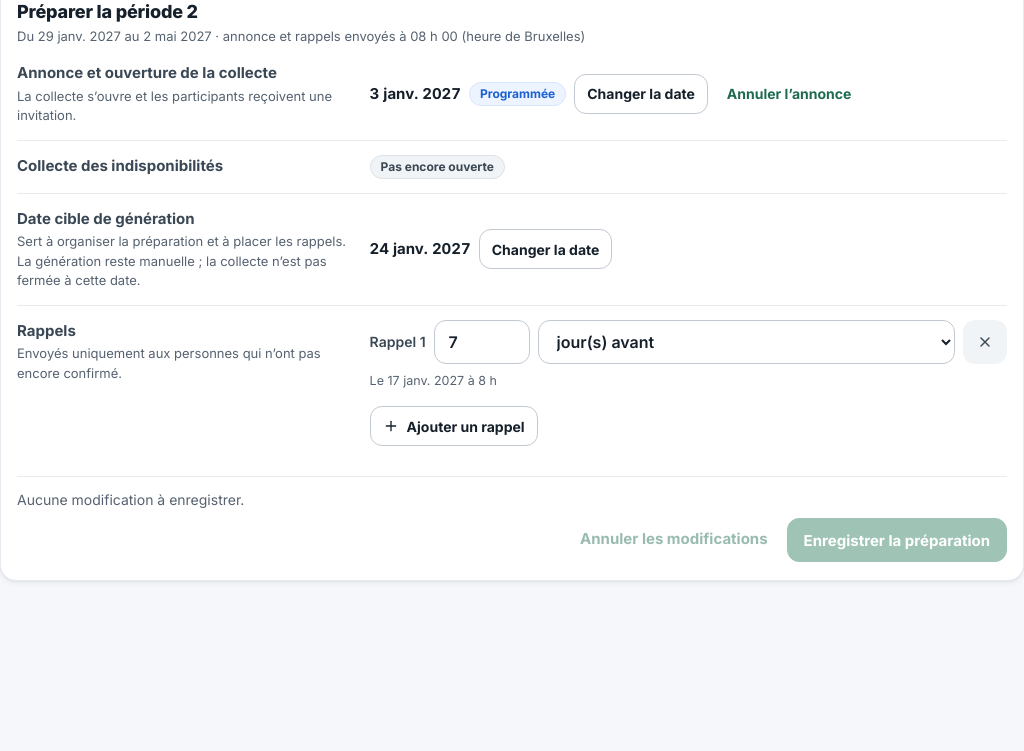
PeriodPreparationPanel — adding a reminder (Trauma Delta, 17 → 24 January 2027) › flags two reminders on the same day, in days or in weeks
Click the button "Ajouter un rappel".
click(454, 426)  # box [370,406,538,446]
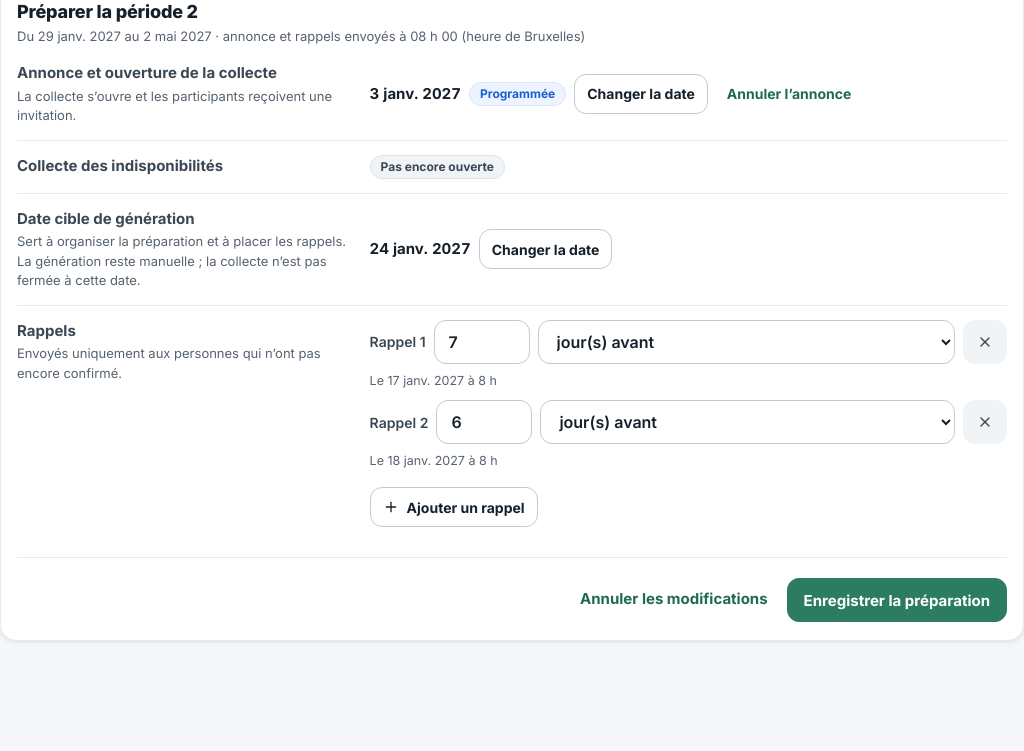
Replace the text in the number field named "Rappel 2 : combien avant la date cible" with "1" at (484, 422), box [436,400,532,444]
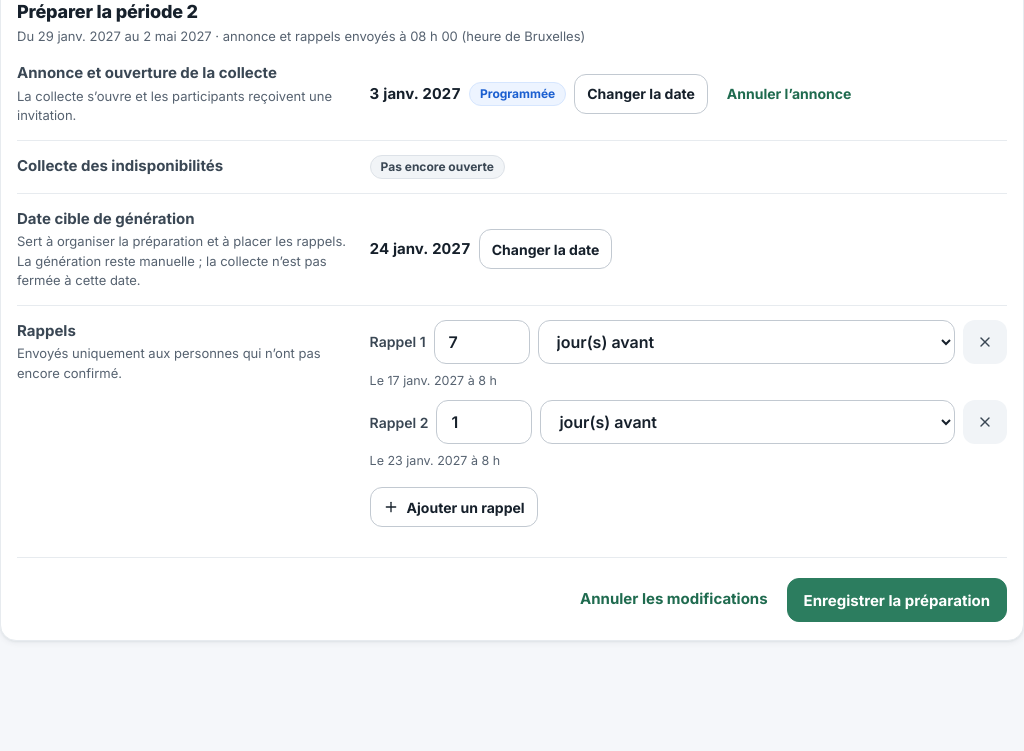
Select "semaine(s) avant" in the dropdown named "Rappel 2 : unité" at (748, 422), box [540,400,955,444]
(page scrolled)
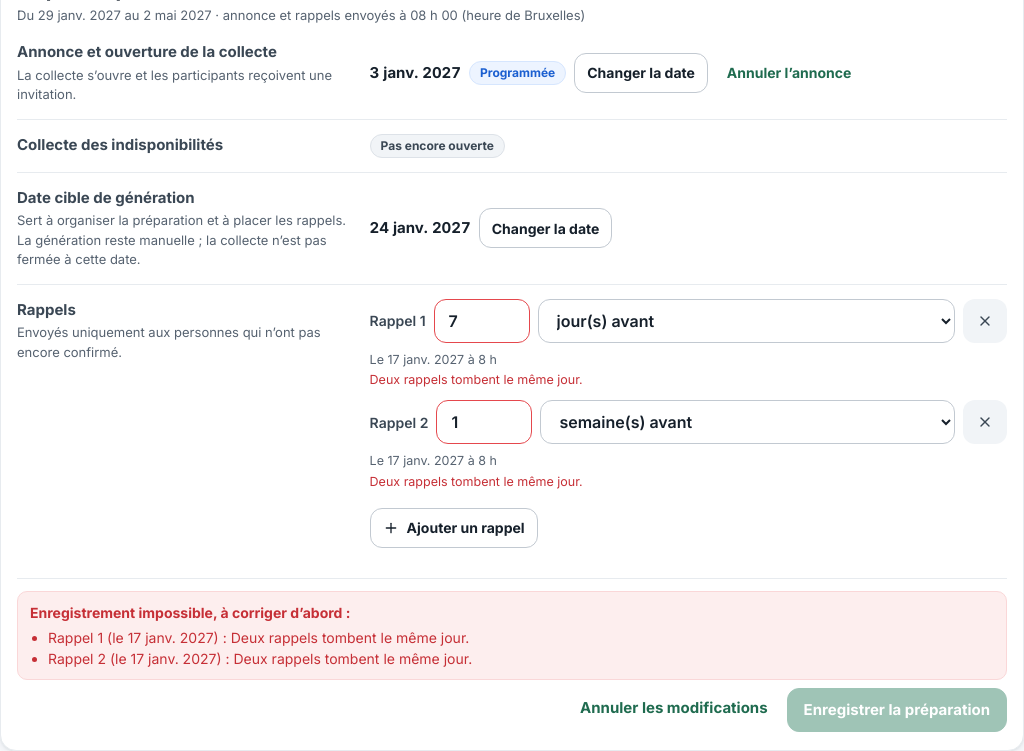
Check: the text "Deux rappels tombent le même jour." is shown 2 times, box [370,372,583,387]; [370,474,583,489]
Check: the text "Enregistrement impossible, à corriger d’abord :" is shown, box [30,604,350,621]
Check: the button "Enregistrer la préparation" is disabled, box [787,688,1007,732]
